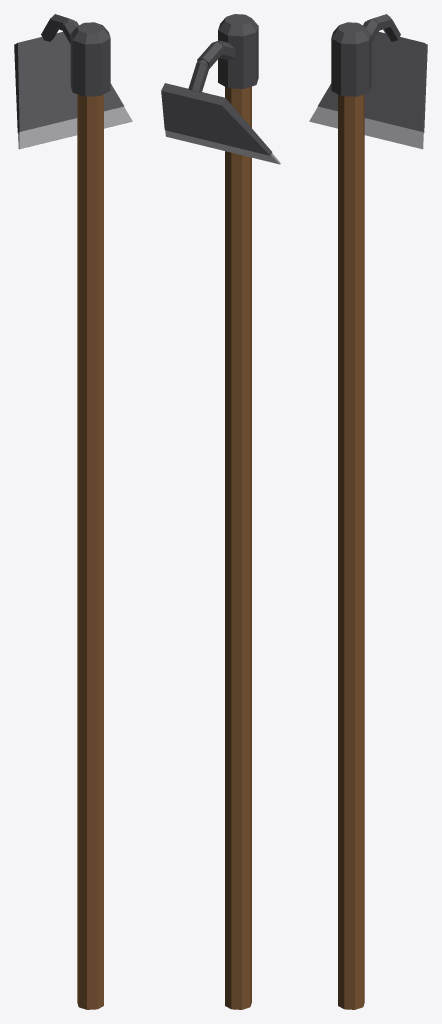
The model's file is hoe.glb.
3 renders of one model, left to right at view 1: azimuth 30°, elevation 25°; view 2: azimuth 150°, elevation 25°; view 3: azimuth 330°, elevation 25°, orthographic.
Visible parts, largest first — view 1: hoe; view 2: hoe; view 3: hoe.
Boxes of the visible parts, <box> form: hoe: <box>14,14,132,1009</box>; hoe: <box>161,14,280,1009</box>; hoe: <box>309,14,427,1009</box>.
Size of the model in its own units: 0.17 by 1.4 by 0.1479.
